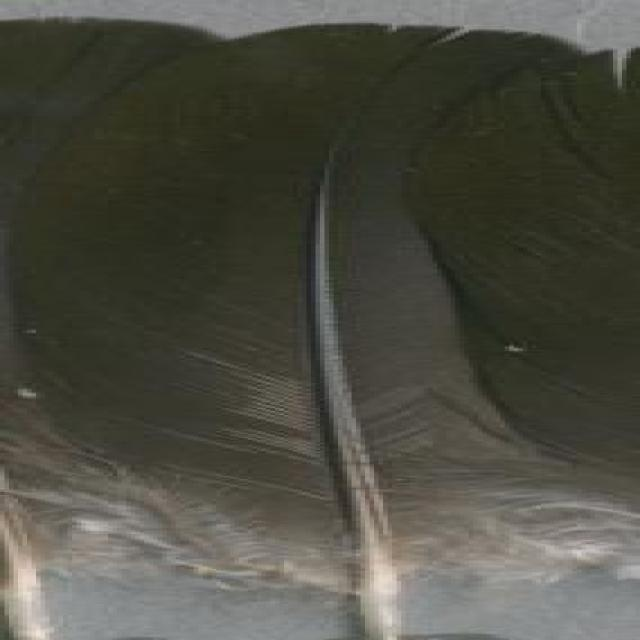feather: (36, 22, 554, 640), (419, 45, 640, 640)
